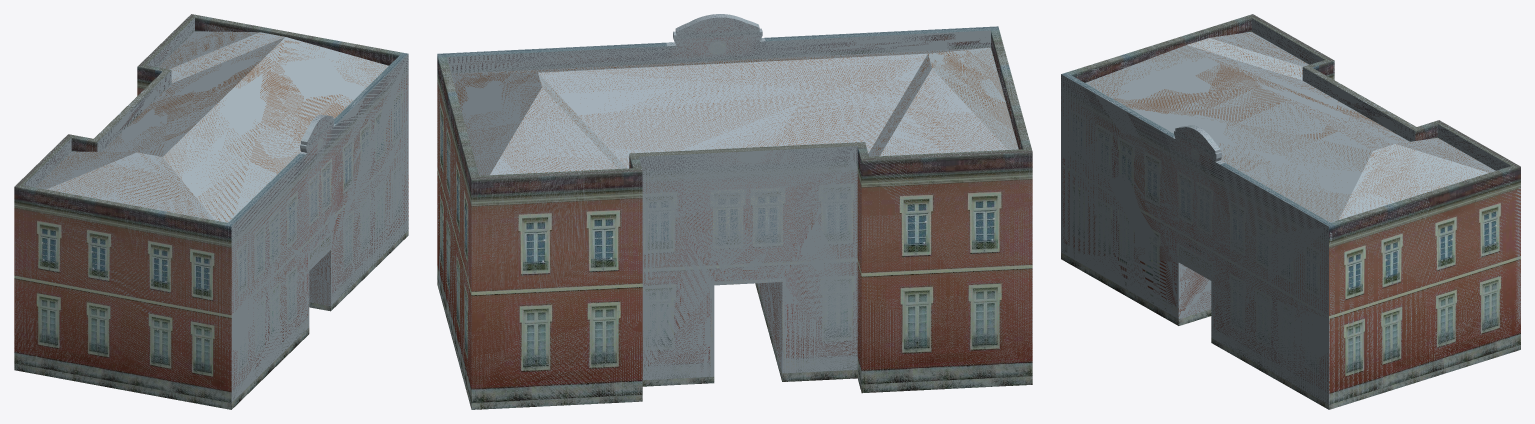
The model's file is Casa de a lado.fbx.
3 views of the same model, side by side, from view 1: azimuth 30°, elevation 25°; view 2: azimuth 150°, elevation 25°; view 3: azimuth 270°, elevation 25° (orthographic). The views are drawn at different scales.
Parts seen in each view (by area): view 1: Component1; view 2: Component1; view 3: Component1.
Part boxes in pixels (left/top/right/bottom): Component1: left=14, top=14, right=408, bottom=409; Component1: left=437, top=14, right=1032, bottom=409; Component1: left=1061, top=14, right=1520, bottom=409.
Bounding box in the file's own units: 808 × 373 × 738.
